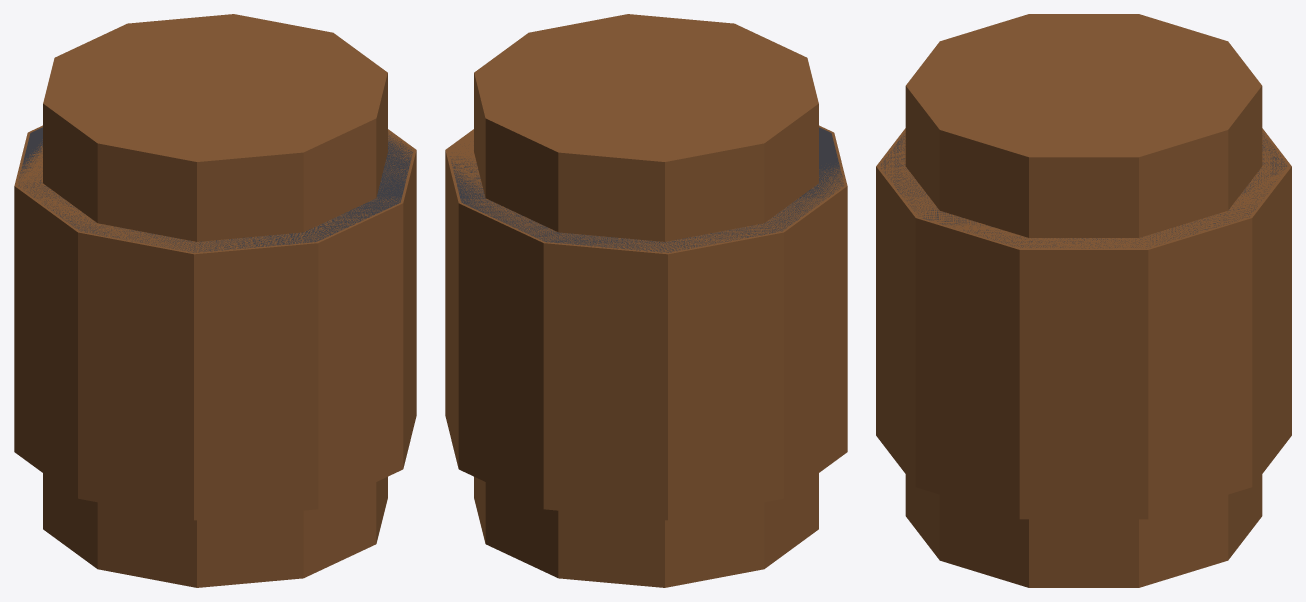
The model's file is prop_barrel.glb.
3 views of the same model, side by side, from view 1: azimuth 30°, elevation 25°; view 2: azimuth 150°, elevation 25°; view 3: azimuth 270°, elevation 25° (orthographic).
Parts seen in each view (by area): view 1: prop_barrel; view 2: prop_barrel; view 3: prop_barrel.
Part boxes in pixels (left/top/right/bottom): prop_barrel: left=14, top=14, right=416, bottom=587; prop_barrel: left=445, top=14, right=847, bottom=587; prop_barrel: left=876, top=14, right=1291, bottom=587.
Bounding box in the file's own units: 0.6657 × 0.8 × 0.7.
